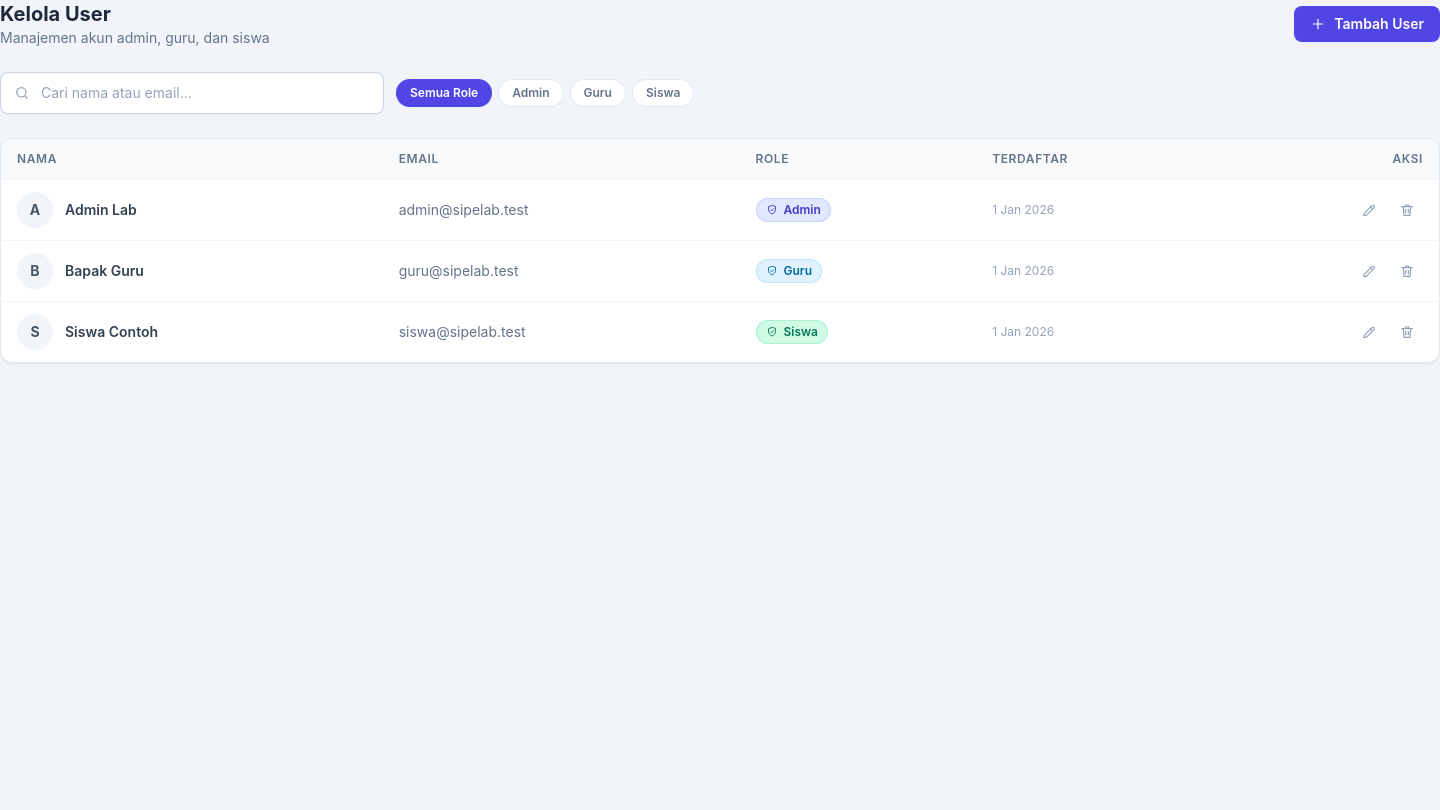
Test: Users — halaman manajemen user untuk admin › menampilkan pesan error saat tambah user ditolak API
This screenshot has width=1440, height=810.
Click the button "Tambah User". click: (1367, 24)
box: [1294,6,1439,42]
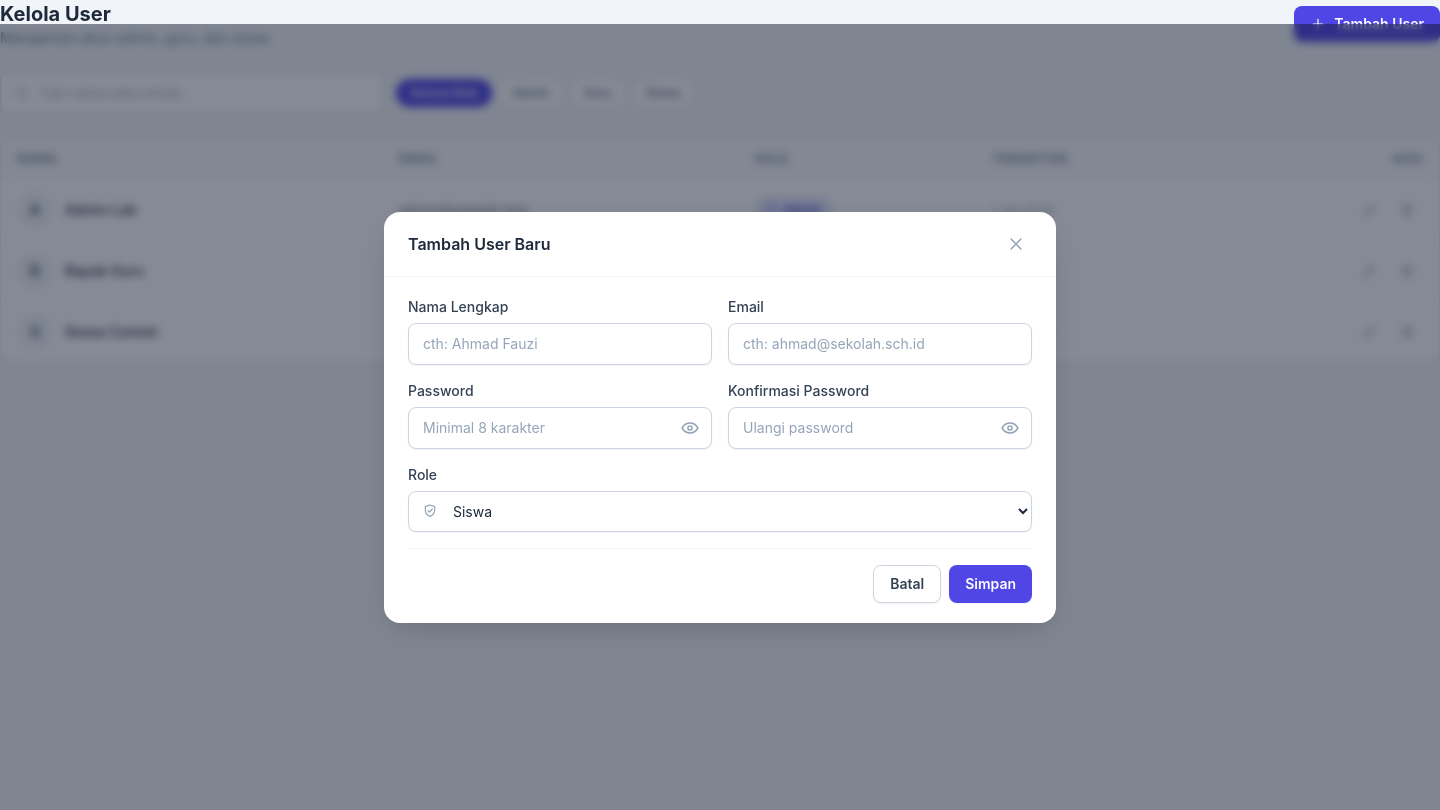
Type "Test User" into the field labelled "Nama Lengkap". click: (560, 344)
box: [408,322,712,364]
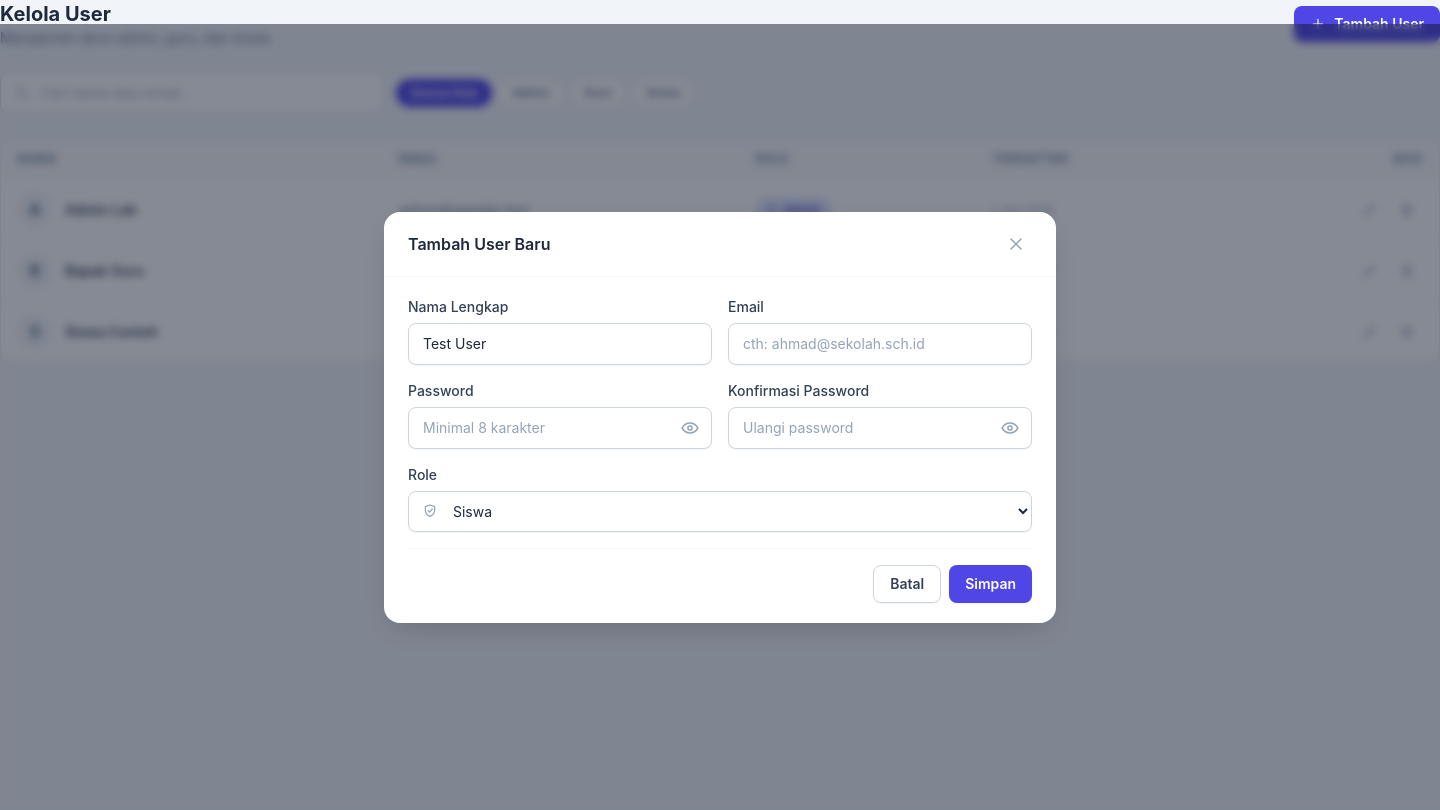
Type "test@sipelab.test" into the field labelled "Email". click: (880, 344)
box: [728,322,1032,364]
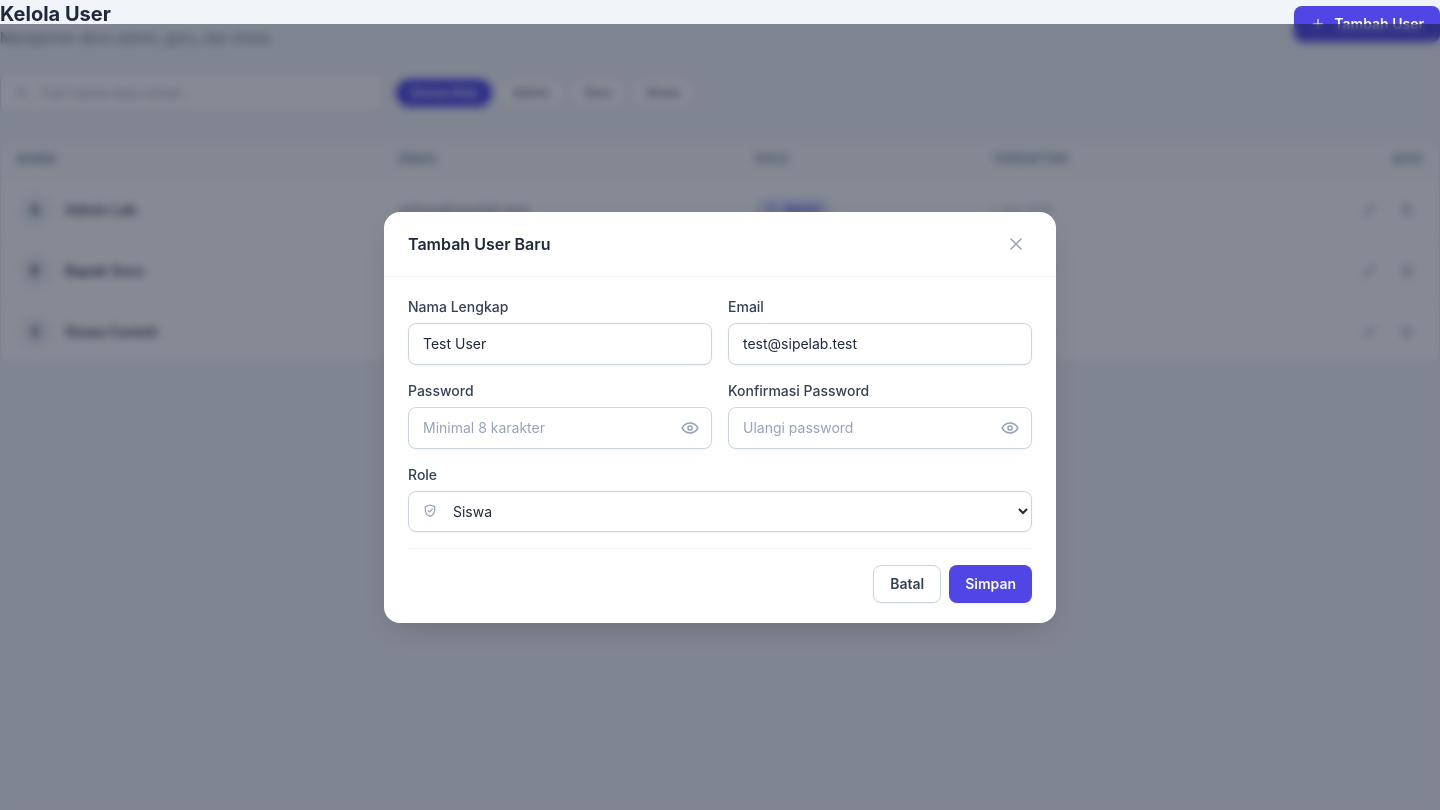
Type "password123" into the password field labelled "Password". click: (560, 428)
box: [408,406,712,448]
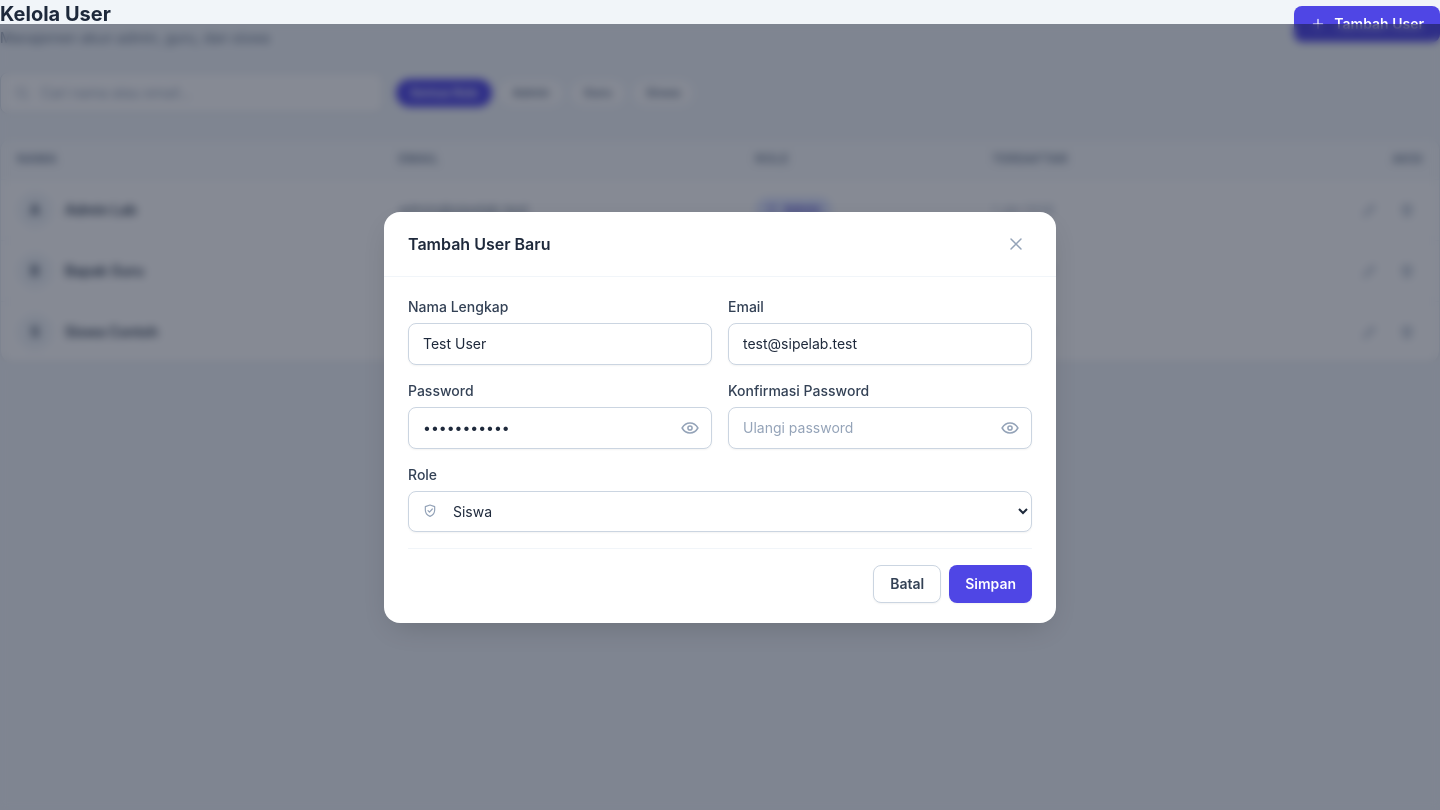
Type "password123" into the password field labelled "Konfirmasi Password". click: (880, 428)
box: [728,406,1032,448]
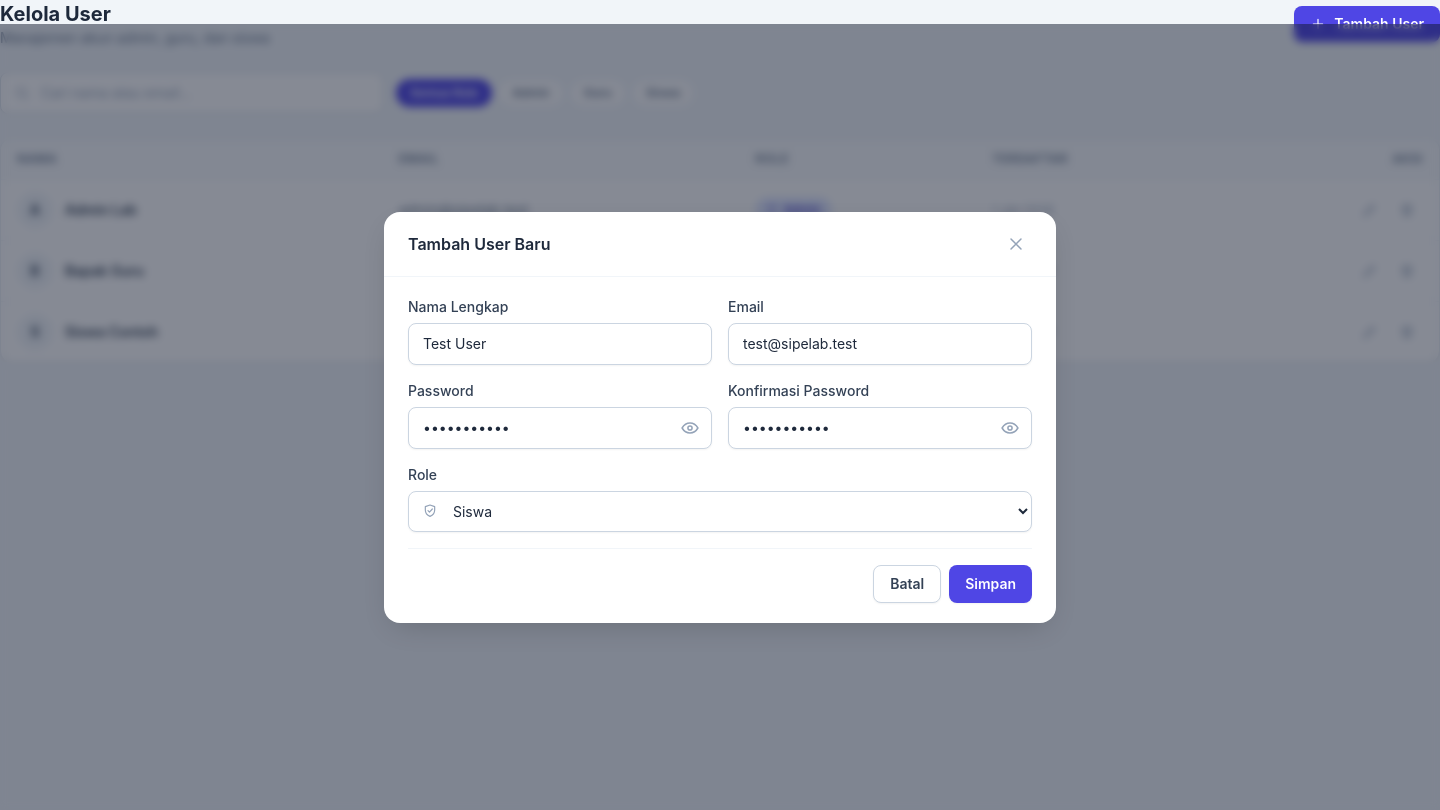
Click the button "Simpan". click: (991, 584)
box: [949,564,1032,602]
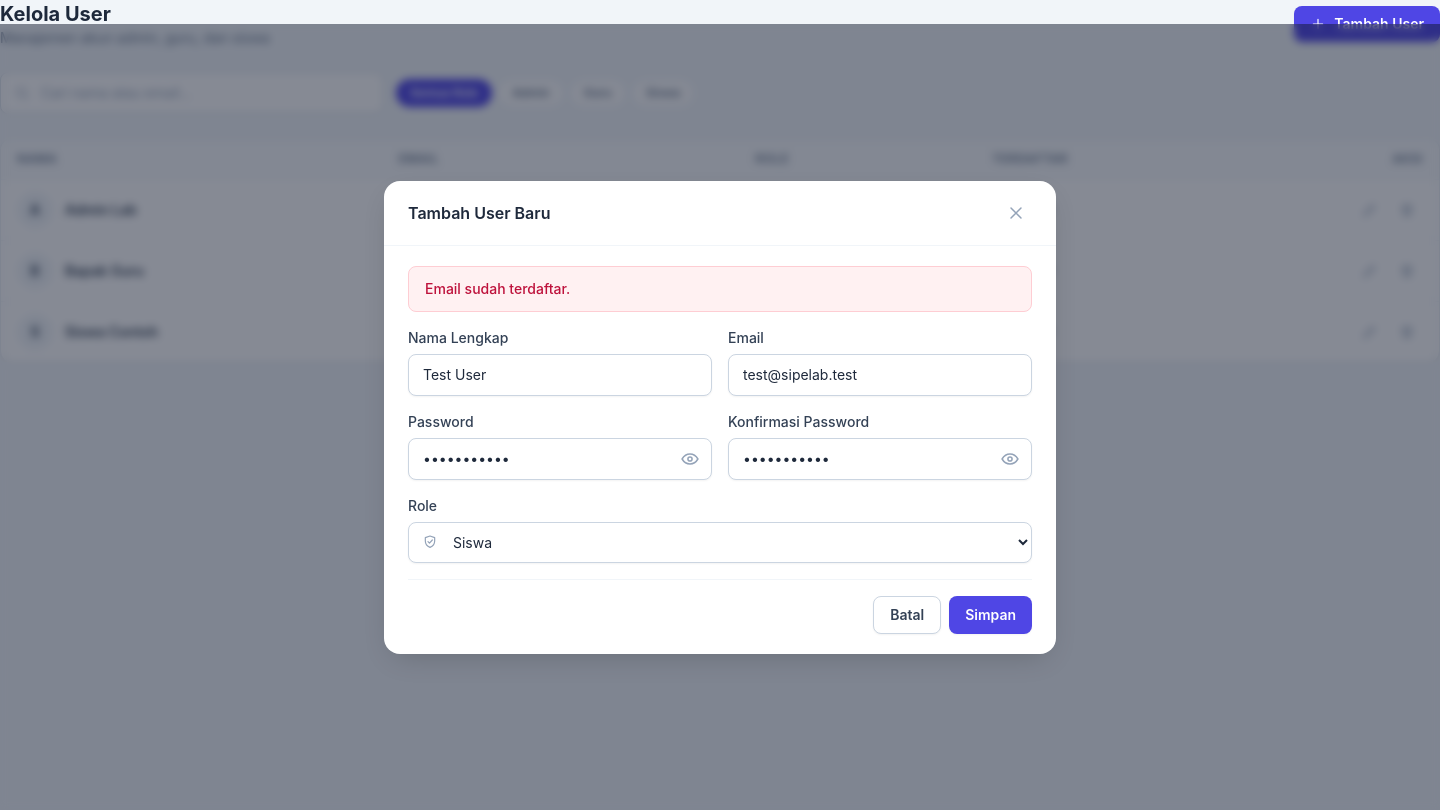
Expected: the text "Email sudah terdaftar." is shown, [408,266,1032,312]
